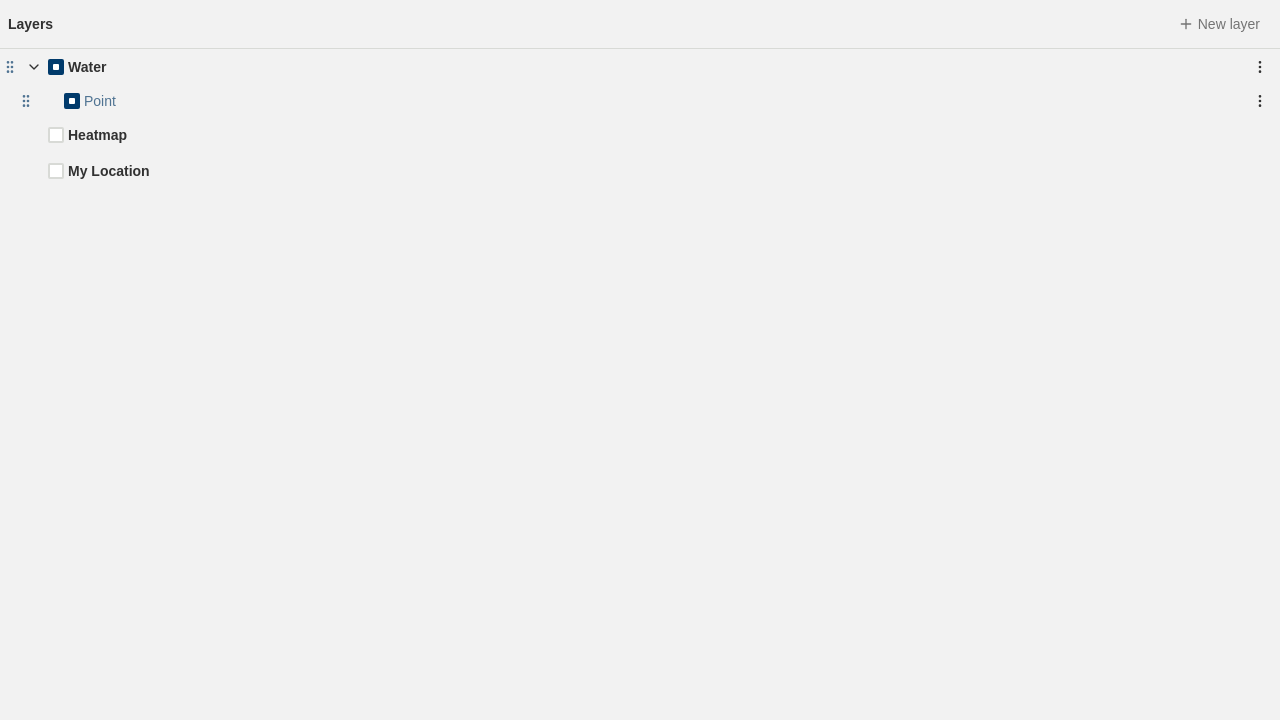
Scenario: LayerTreePanel › keeps the feature when its delete confirmation is cancelled
The width and height of the screenshot is (1280, 720).
Click the button named "feature options": {"x": 1260, "y": 101} top-left (1248, 89), bottom-right (1272, 113)
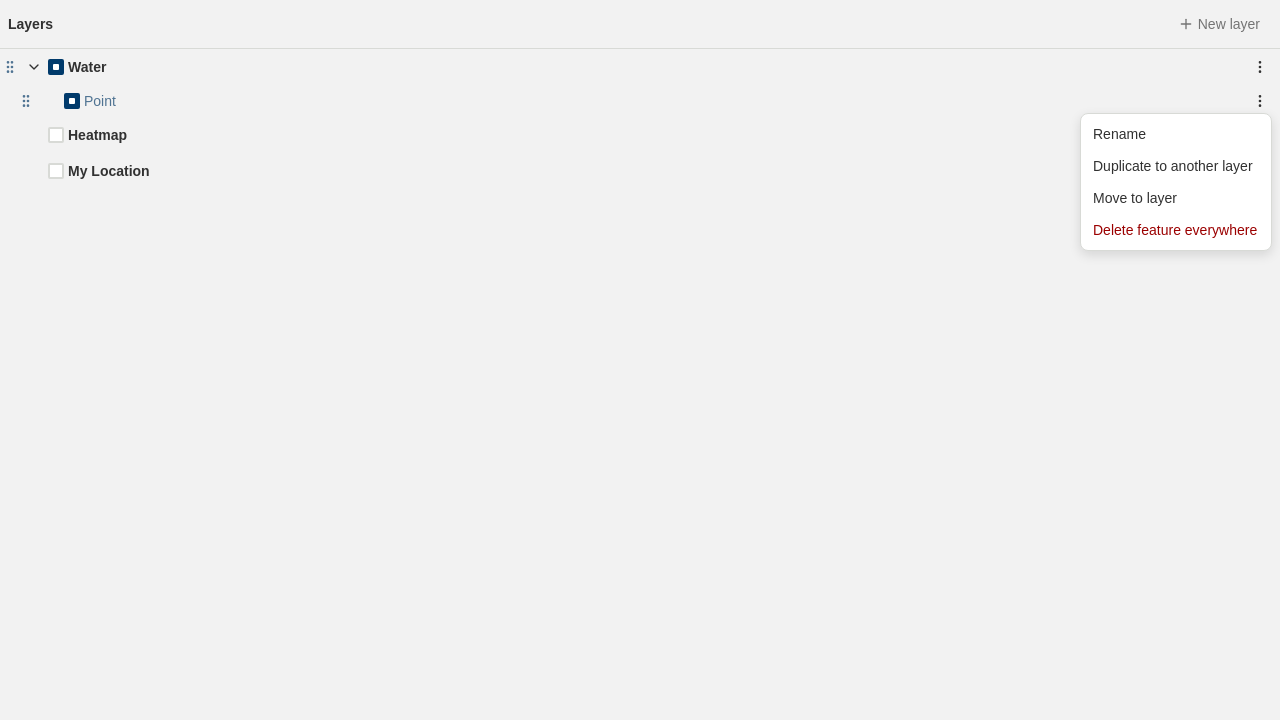
Click the menu item "Delete feature everywhere": {"x": 1175, "y": 230} top-left (1093, 222), bottom-right (1257, 238)
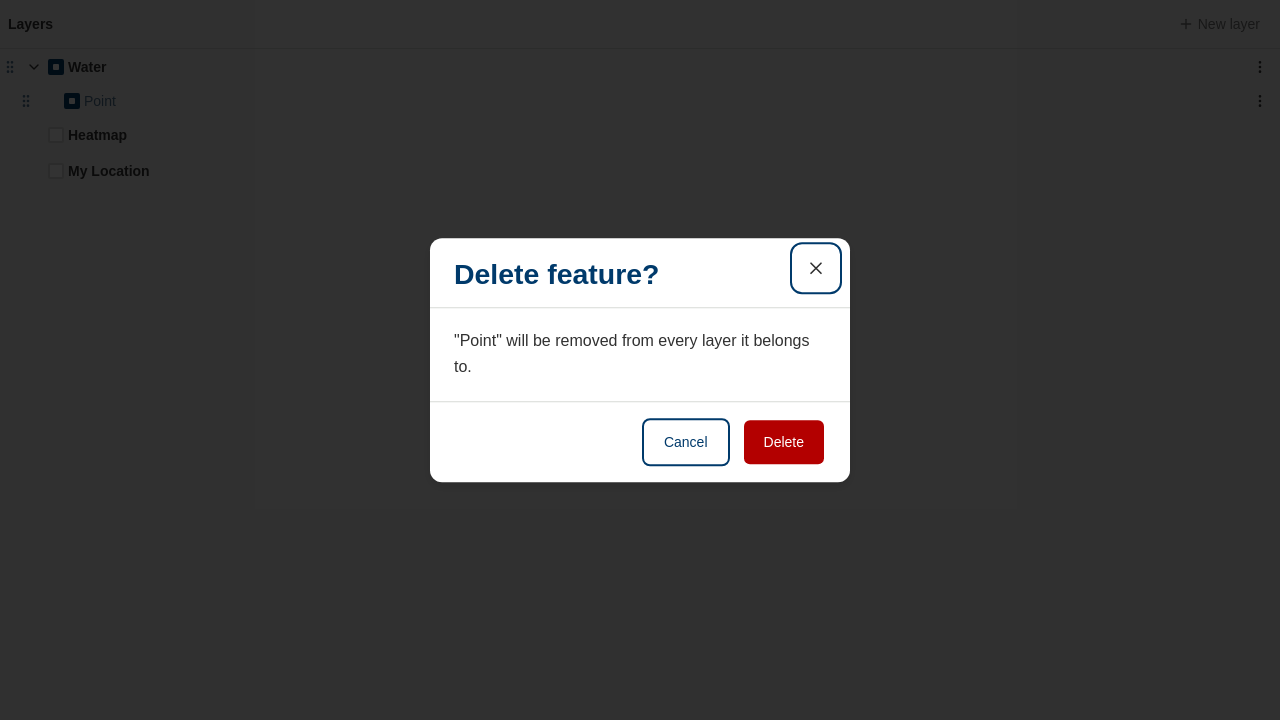
Click the button "Cancel": {"x": 686, "y": 442} top-left (642, 418), bottom-right (730, 466)
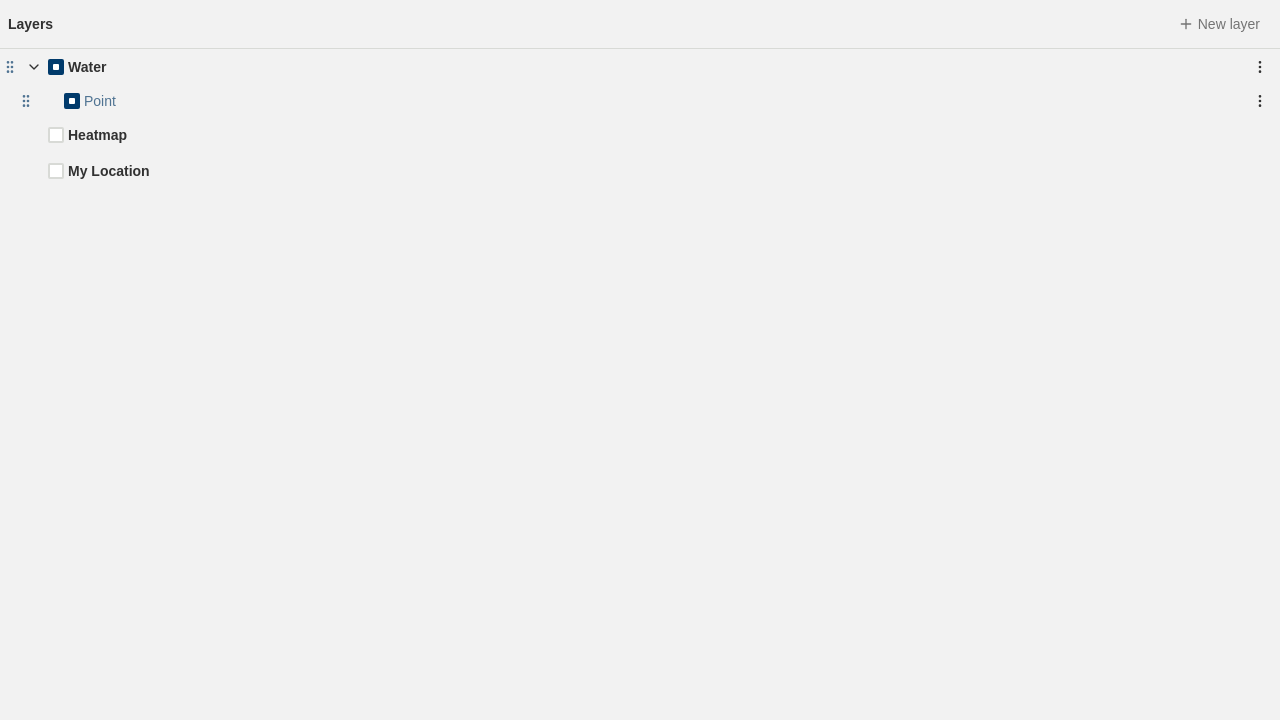
Result: the dialog is gone
